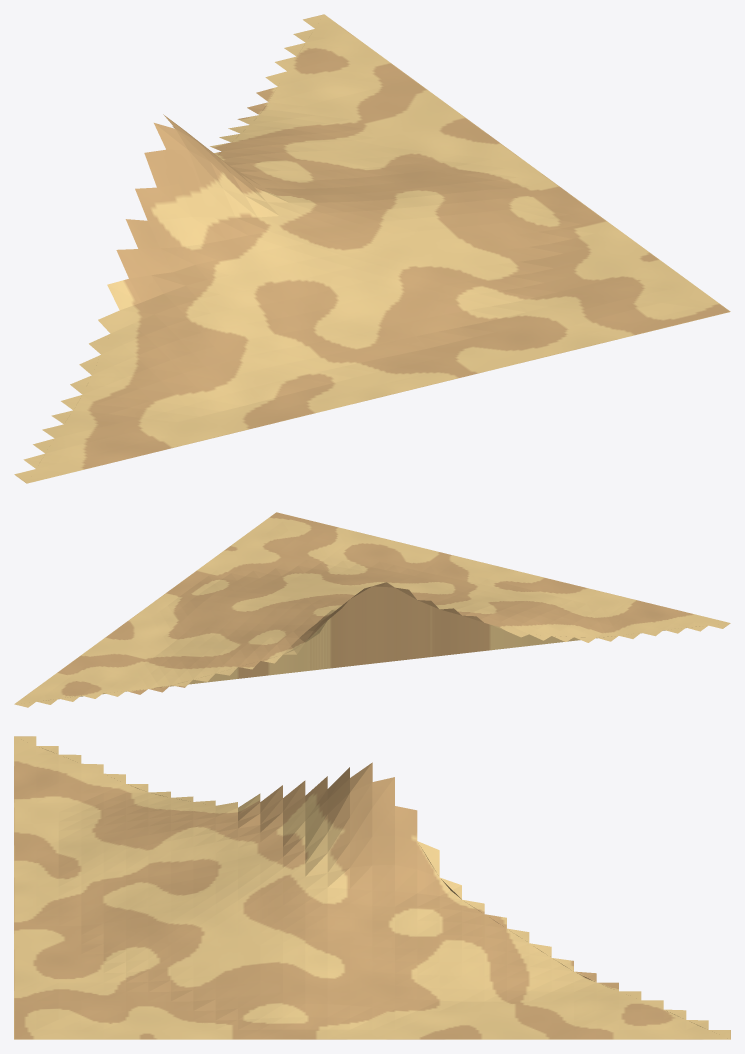
File: Desert_Mountains_08_NE.obj
3 renders of one model, top to bottom at view 1: azimuth 30°, elevation 25°; view 2: azimuth 150°, elevation 25°; view 3: azimuth 270°, elevation 25°, orthographic. The views are drawn at different scales.
Bounding box in the file's own units: 10 × 1.79 × 10.
1 material, 1 textured.
